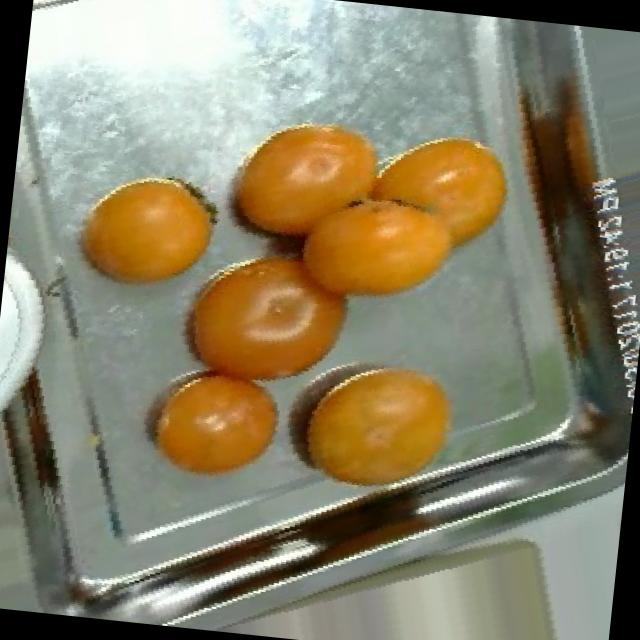Fruit: (138, 212, 381, 411), (256, 327, 489, 521), (192, 83, 410, 281), (98, 330, 310, 510), (338, 102, 536, 282), (50, 148, 241, 316)
